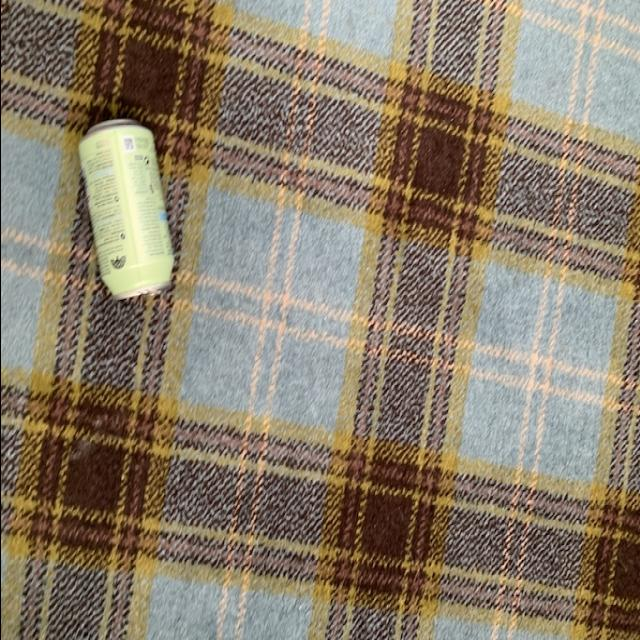litter: (75, 119, 173, 312)
